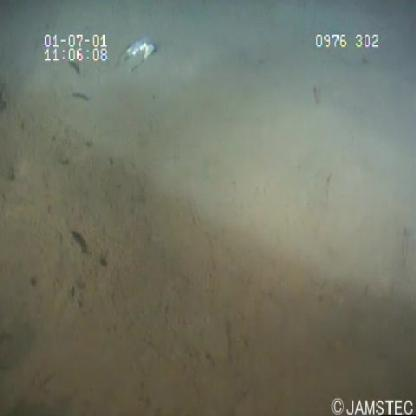Rác: (115, 31, 163, 81)
